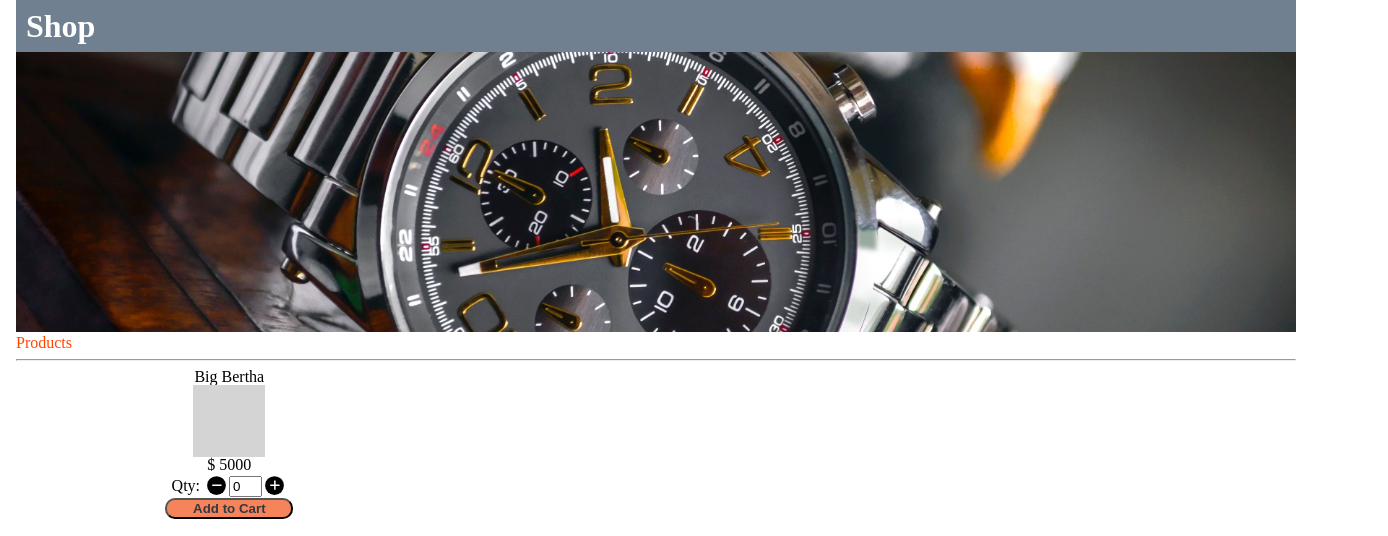
Test case: ShopPage Add to Cart Function › should render 1 image if the same item is added multiple times
This screenshot has width=1388, height=536.
Click the button named "+". click: (275, 486)
box: [265,476,284,495]
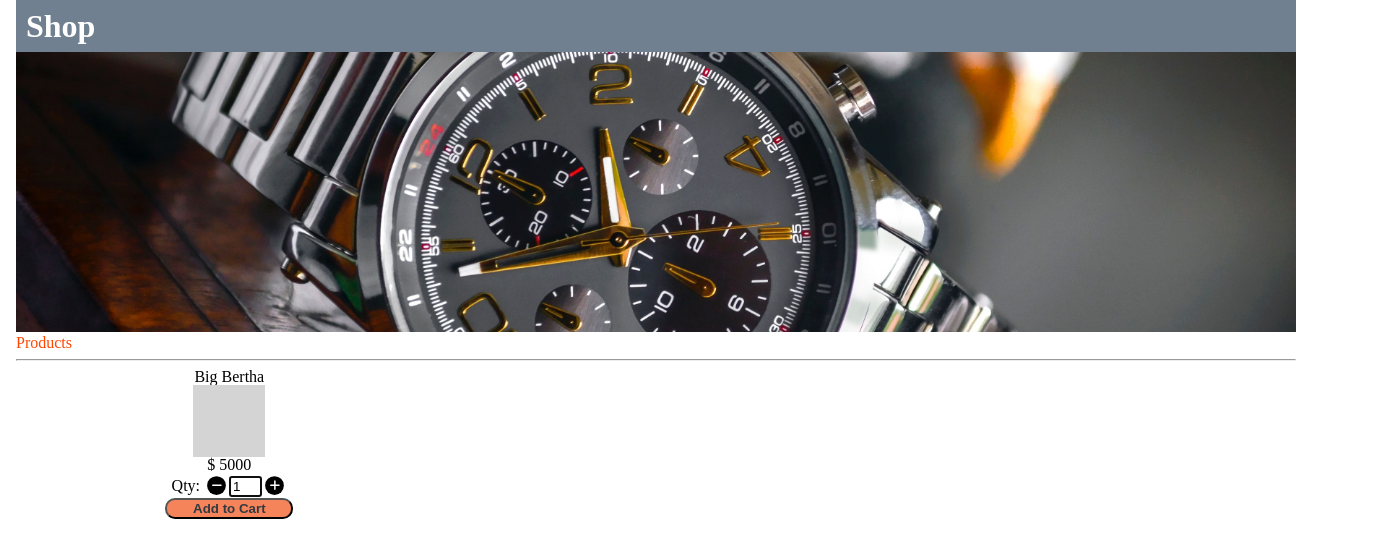
Click the button "Add to Cart". click: (229, 508)
box: [165,498,293,519]
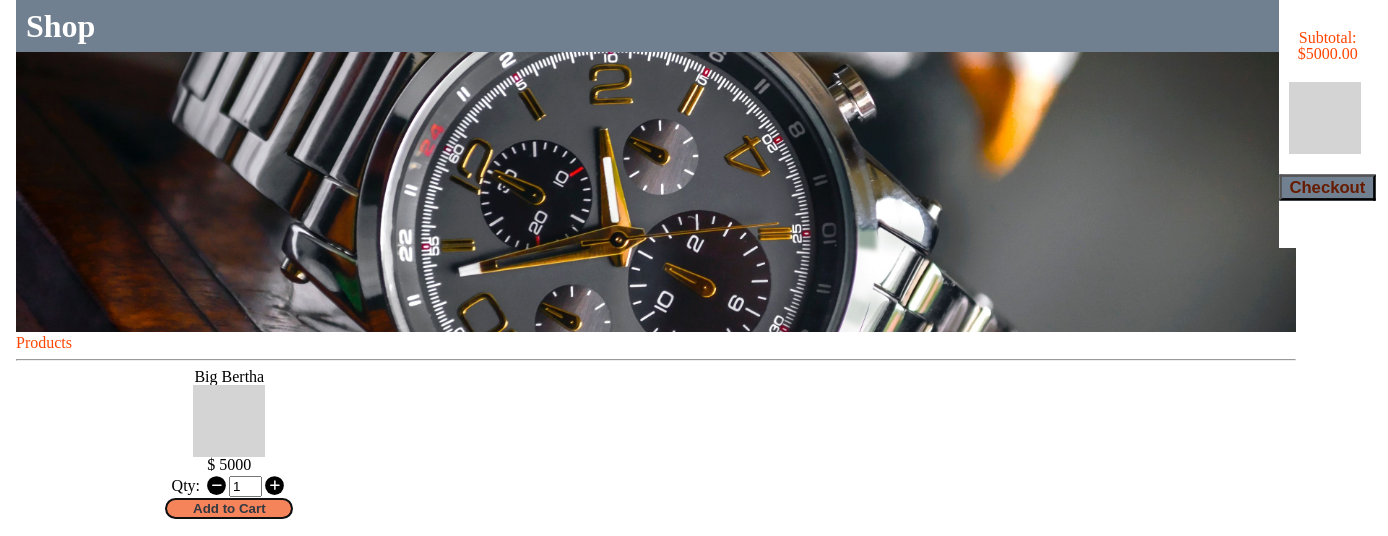
Type "0" into the number field labelled "Qty:". click: (246, 486)
box: [229,476,262,496]
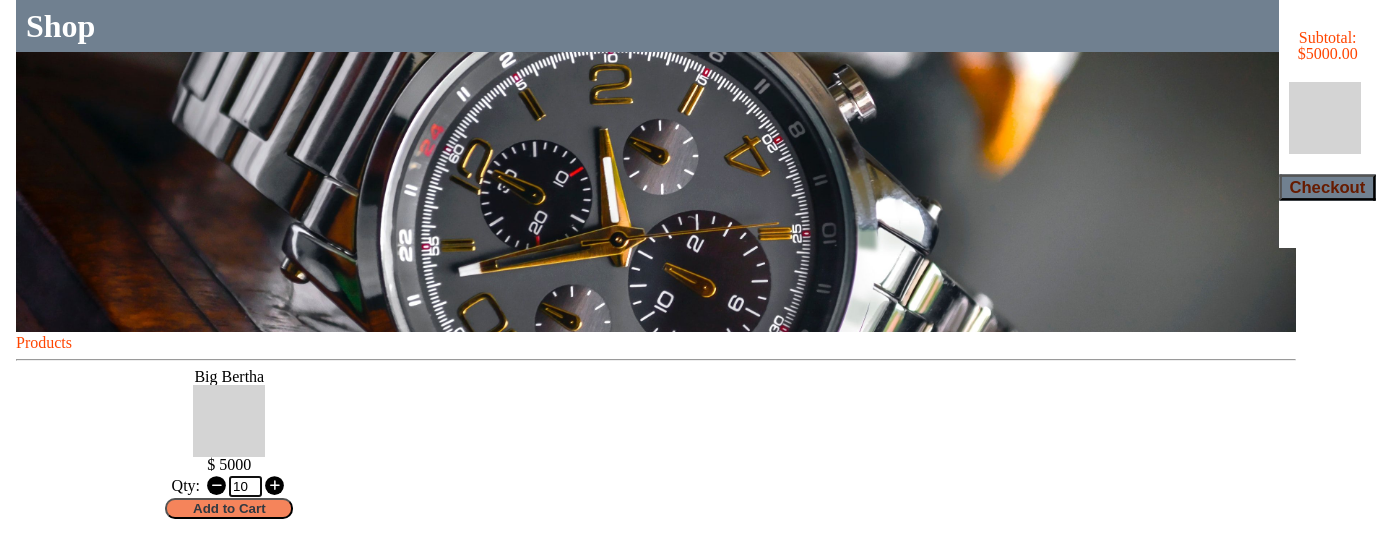
Click the button "Add to Cart". click: (229, 508)
box: [165,498,293,519]
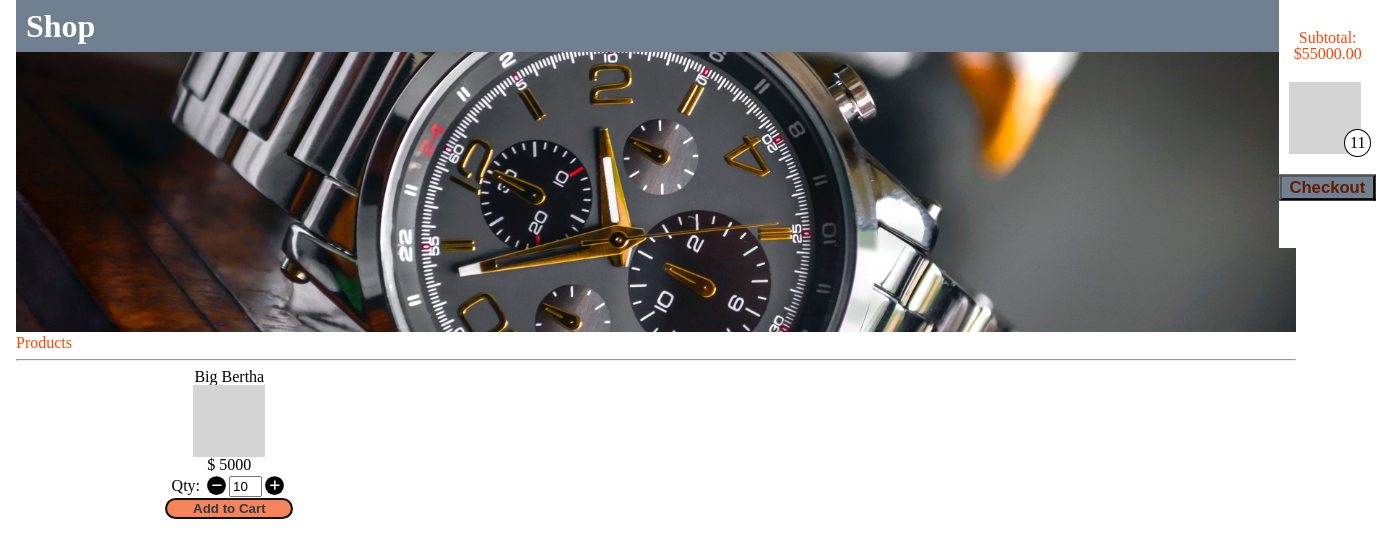
Now the text "11" is shown, box [1344,129,1371,157]
